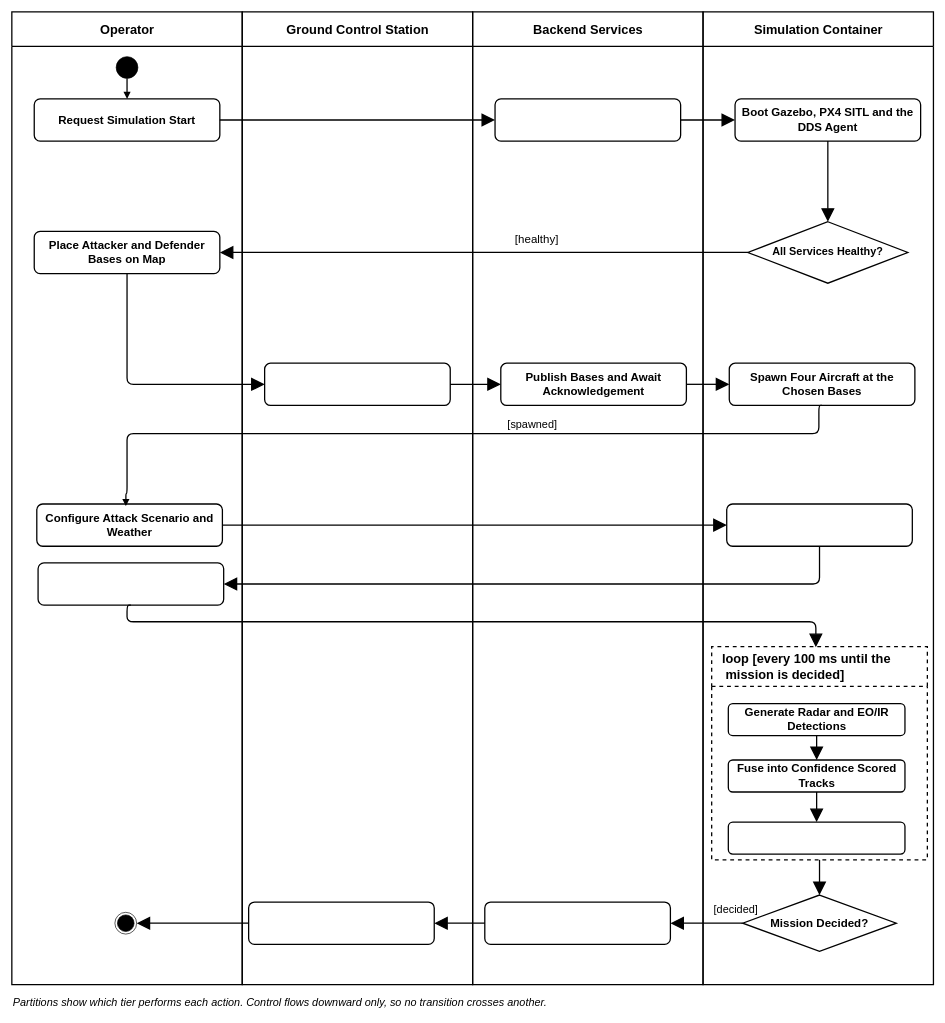
The diagram is 945 pixels wide and 1023 high, and some of its shapes have lost their labels. The centre of each missing label's shape, as x and y in pixels:
Adjudicate Outcome and Close Episode: [577,923]
Apply Degradation Between Detection and Fusion: [819,525]
Convert Map Click to NED Coordinates: [357,384]
Display Result and Offer Replay: [341,923]
Launch Docker Container and ROS 2 Nodes: [587,119]
Launch Mission: [130,583]
Rank Threats and Command Setpoints: [816,837]
